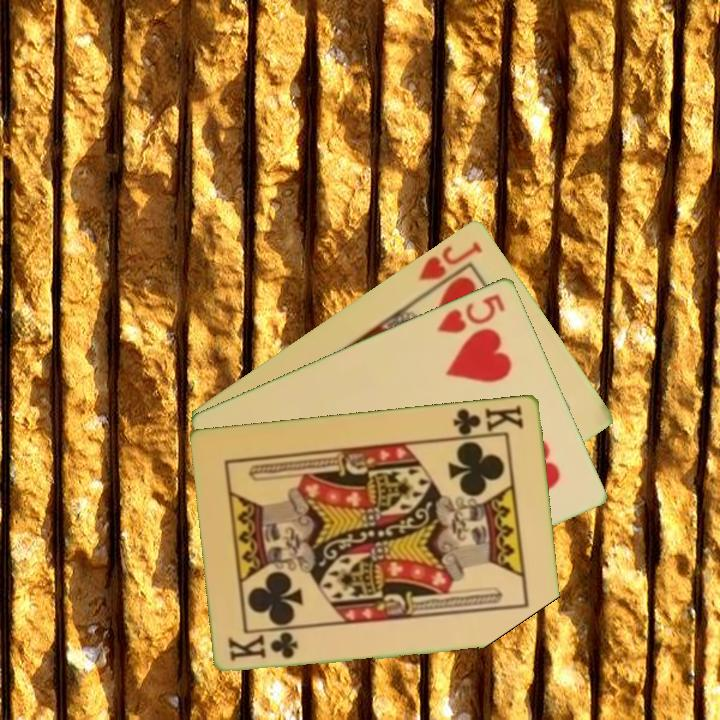5h: (433, 290, 508, 336)
Jh: (414, 237, 486, 283)
Kc: (448, 401, 527, 440), (225, 629, 301, 664)
